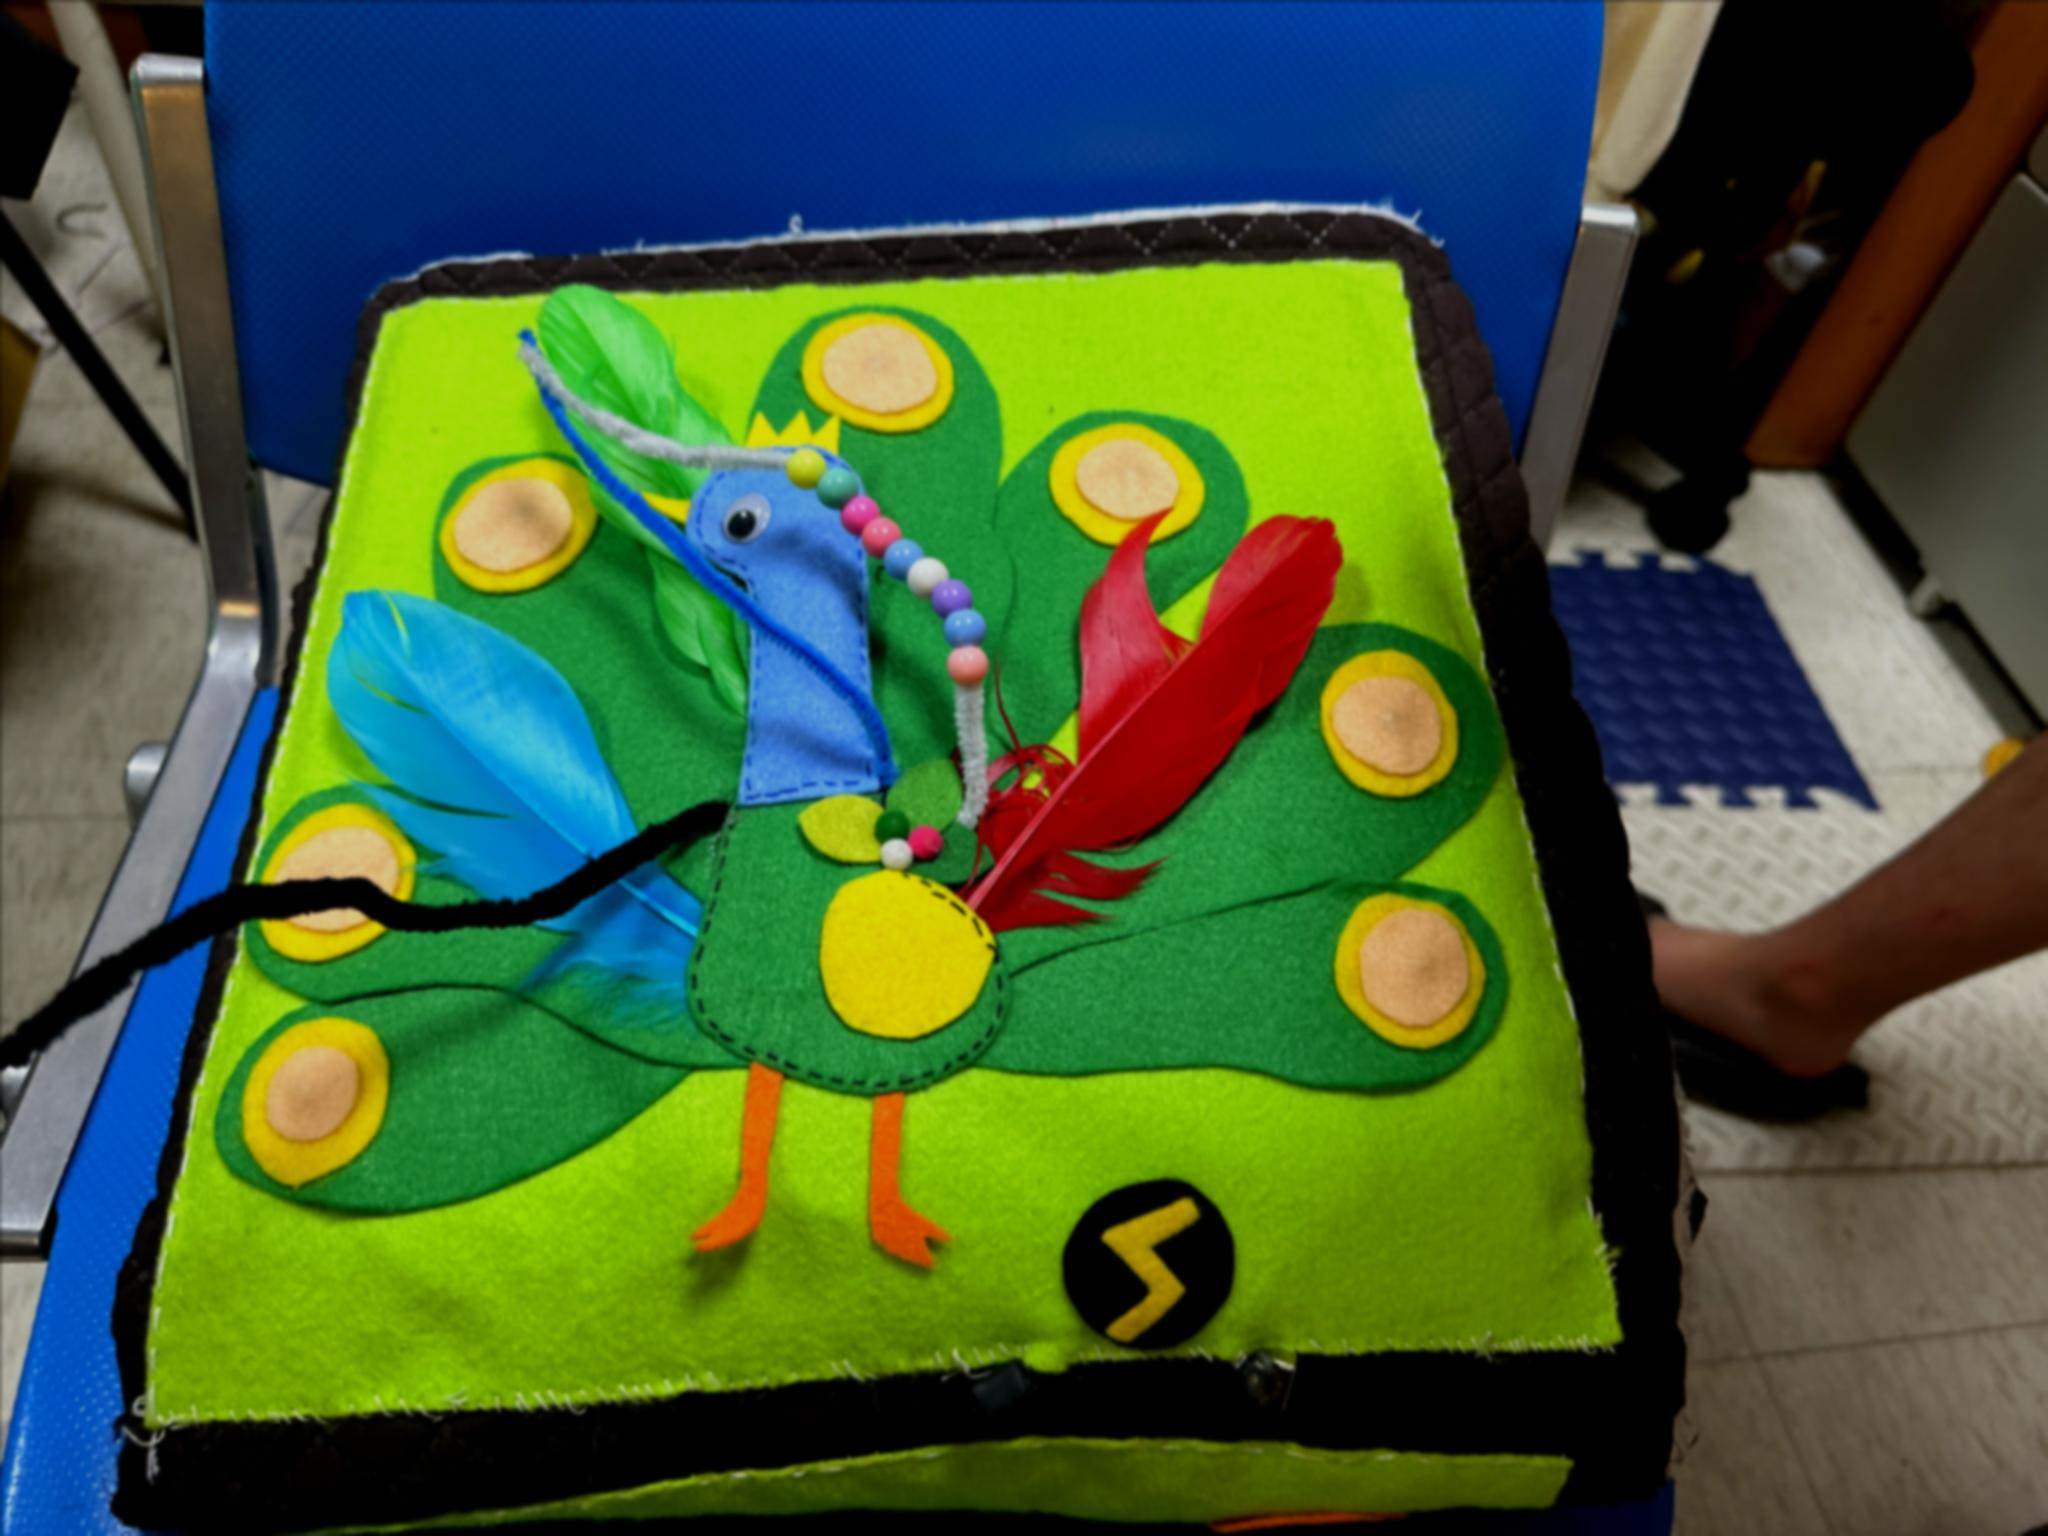bead: (780, 439, 829, 495), (810, 471, 882, 505), (940, 611, 1006, 649), (887, 565, 950, 597), (822, 499, 885, 531), (945, 644, 992, 684), (851, 528, 913, 553), (884, 537, 926, 573), (932, 586, 982, 615)
